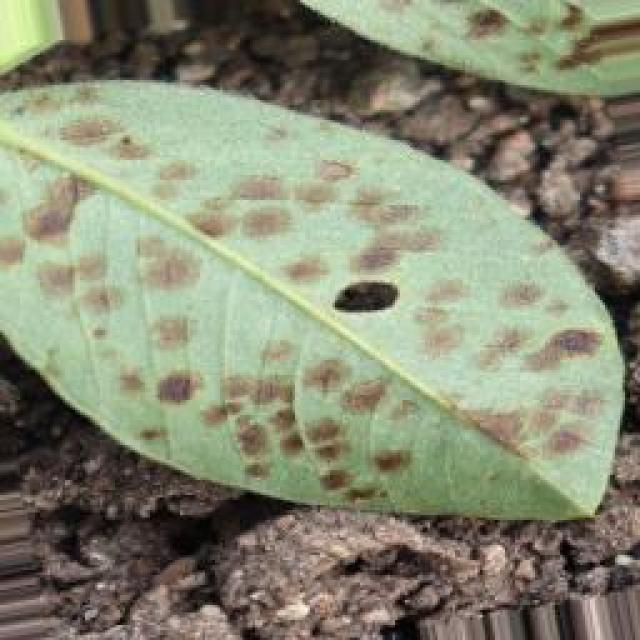Whitefly: (0, 14, 619, 579)
